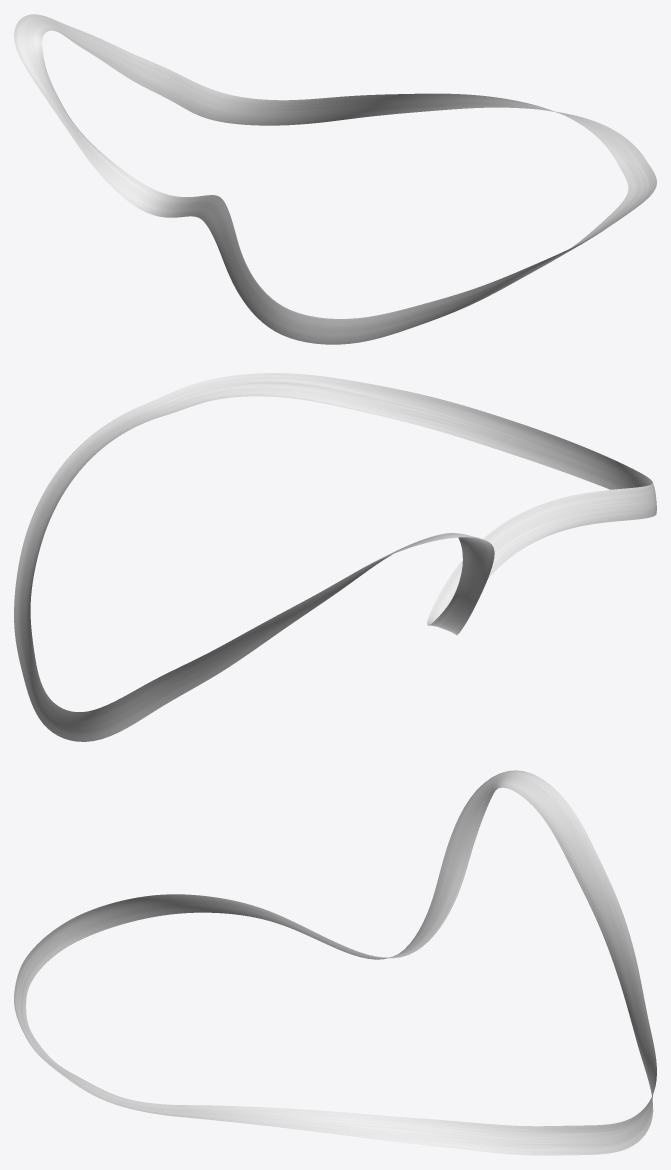
File: LoopMap_track.fbx
3 renders of one model, top to bottom at view 1: azimuth 30°, elevation 25°; view 2: azimuth 150°, elevation 25°; view 3: azimuth 270°, elevation 25°, orthographic. The views are drawn at different scales.
Parts seen in each view (by area): view 1: loftedSurface2; view 2: loftedSurface2; view 3: loftedSurface2.
Part boxes in pixels (x1,y1,x2,y2): loftedSurface2: (14, 14, 656, 344); loftedSurface2: (14, 373, 656, 741); loftedSurface2: (14, 770, 656, 1155).
Bounding box in the file's own units: 1382 × 588 × 1579.
Materials: 1 (1 with a texture image).
